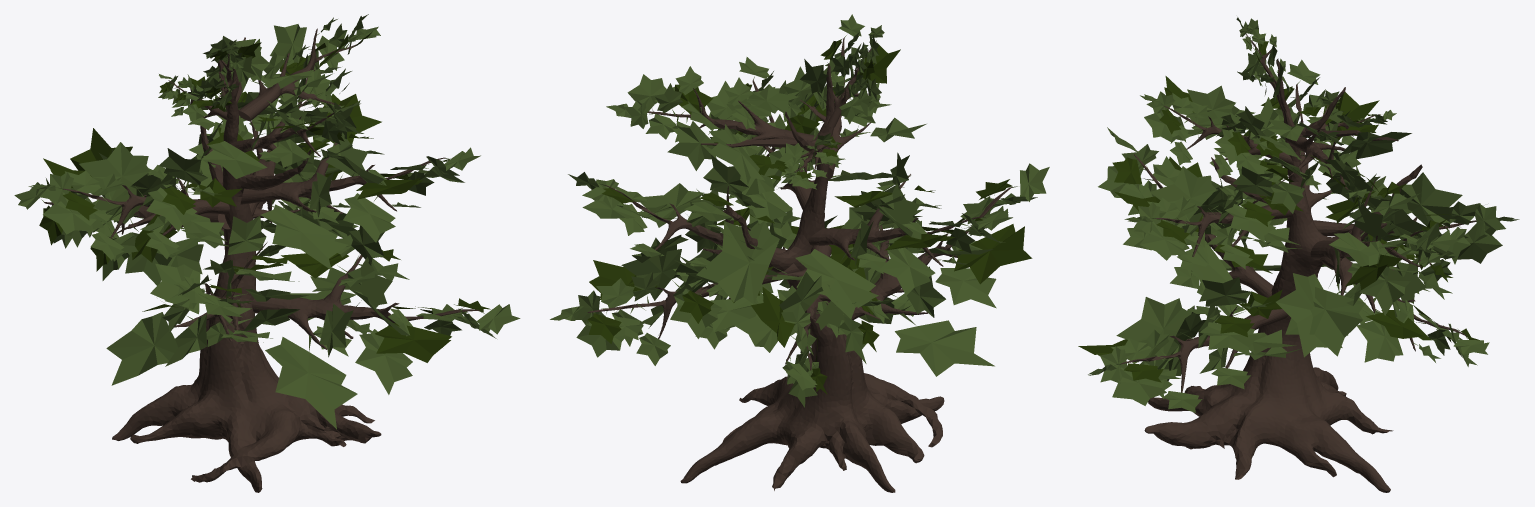
Rendered from Oak.glb.
The picture shows the model from 3 angles, left to right: view 1: azimuth 30°, elevation 25°; view 2: azimuth 150°, elevation 25°; view 3: azimuth 270°, elevation 25°; orthographic projection. The views are drawn at different scales.
Visible parts, largest first — view 1: Cube; view 2: Cube; view 3: Cube.
Boxes of the visible parts, <box> form: Cube: <box>14,14,520,492</box>; Cube: <box>550,14,1049,492</box>; Cube: <box>1078,17,1519,492</box>.
Bounding box in the file's own units: 6.02 × 6.55 × 6.24.
